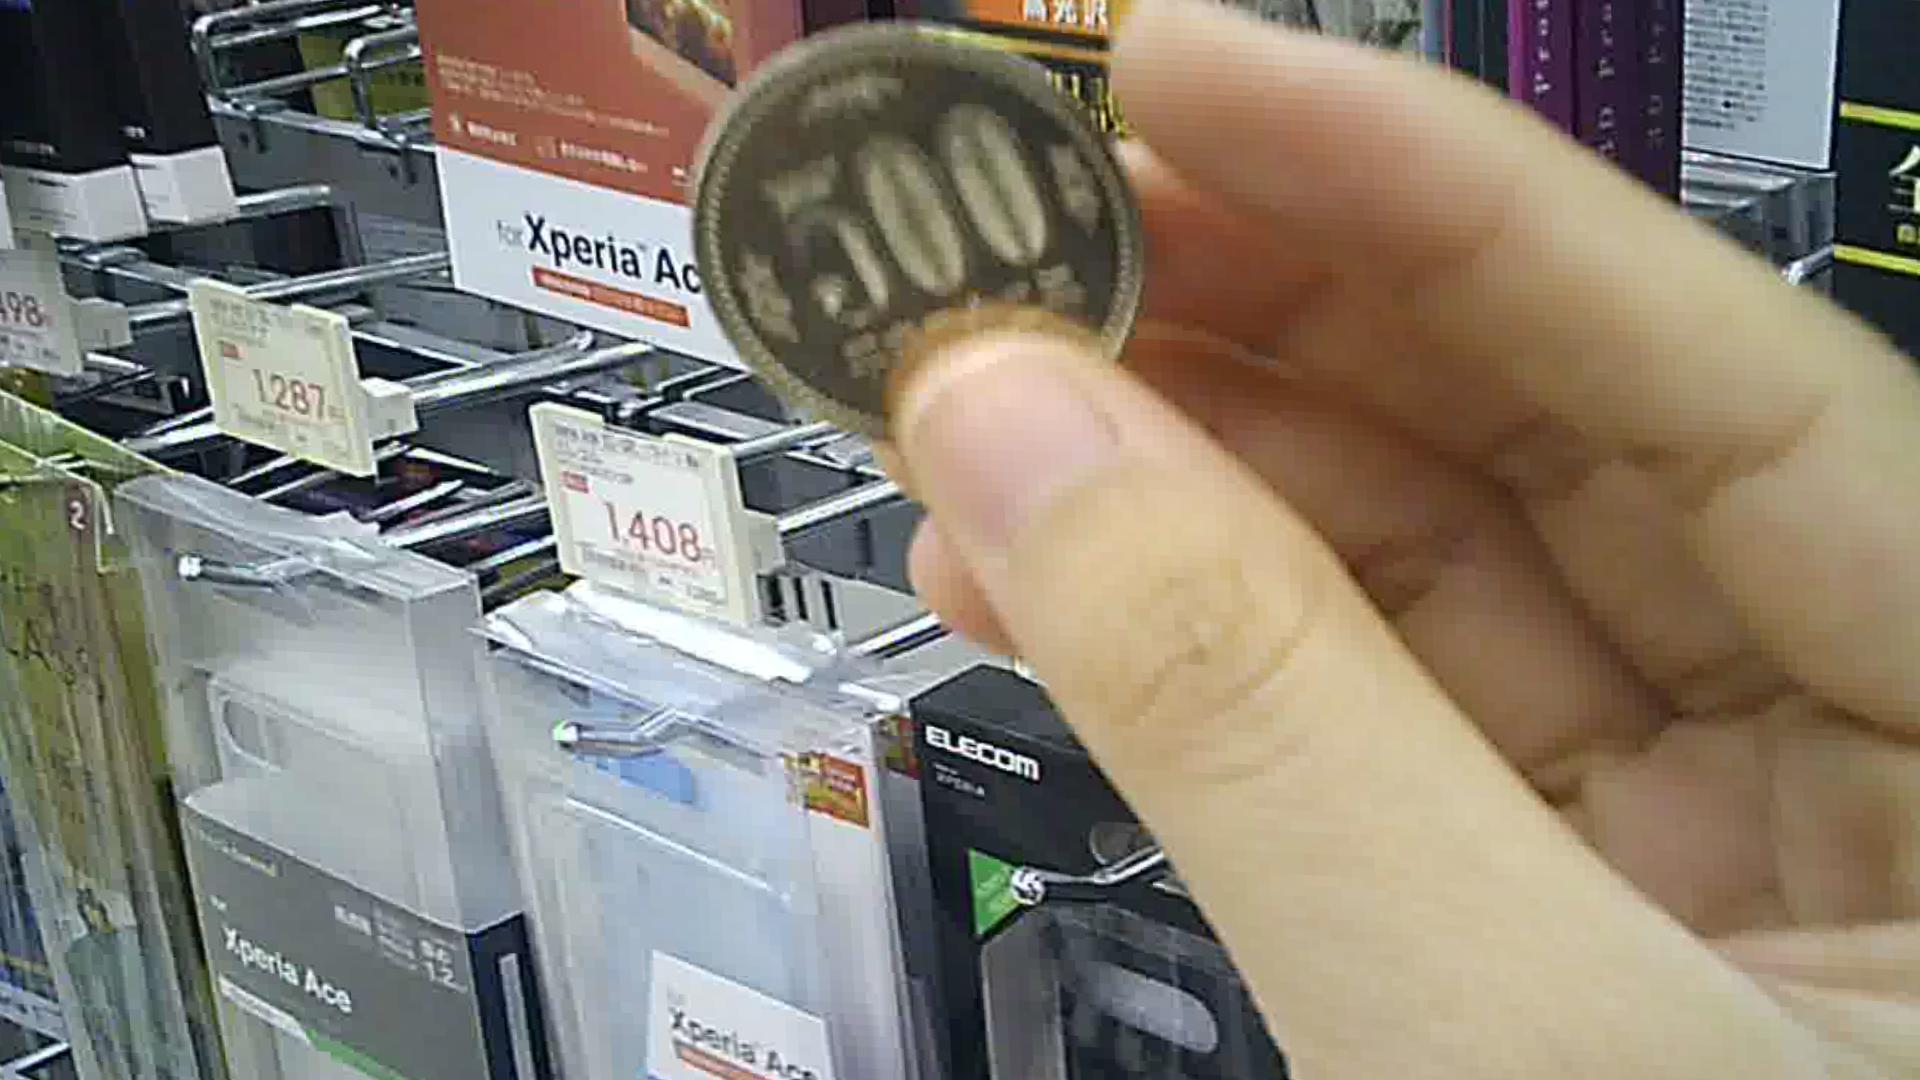500 Yen: (675, 12, 1151, 442)
